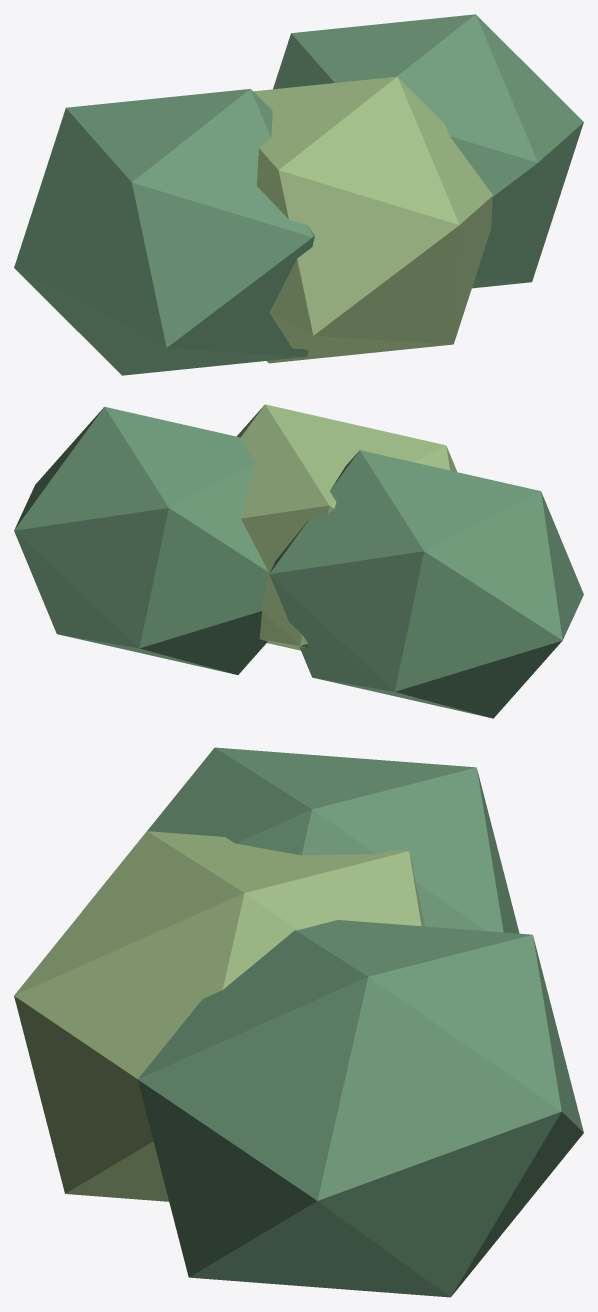
Rendered from ker.glb.
3 views of the same model, one above another, from view 1: azimuth 30°, elevation 25°; view 2: azimuth 150°, elevation 25°; view 3: azimuth 270°, elevation 25° (orthographic). The views are drawn at different scales.
Parts seen in each view (by area): view 1: material_6d9978, material_9ebc85; view 2: material_6d9978, material_9ebc85; view 3: material_6d9978, material_9ebc85.
Boxes of the visible parts, box(x1,y1,x2,y2) form: material_6d9978: box(14, 14, 583, 375); material_9ebc85: box(253, 76, 492, 363); material_6d9978: box(14, 406, 583, 718); material_9ebc85: box(236, 404, 457, 650); material_6d9978: box(82, 747, 583, 1297); material_9ebc85: box(14, 831, 425, 1201).
Size of the model in its own units: 1.82 by 0.7803 by 1.15.
